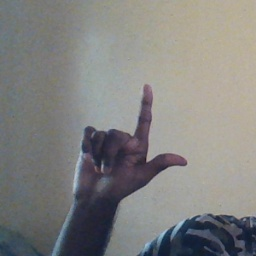L: (70, 83, 190, 199)
